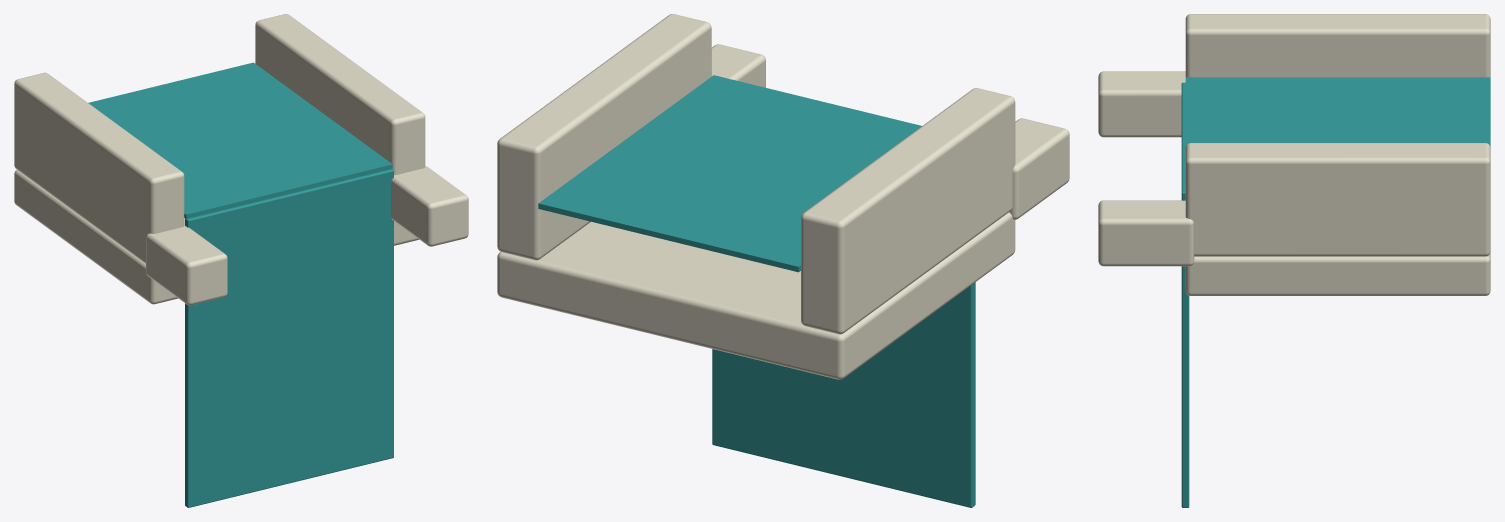
File: water-clock-garden-and-hydraulic-puzzles-channel-spill-f516c210__31954.glb
3 renders of one model, left to right at view 1: azimuth 30°, elevation 25°; view 2: azimuth 150°, elevation 25°; view 3: azimuth 270°, elevation 25°, orthographic. The views are drawn at different scales.
Visible parts, largest first — view 1: channel-spillway-end; view 2: channel-spillway-end; view 3: channel-spillway-end.
Boxes of the visible parts, x1,y1,x2,y2 form: channel-spillway-end: [14, 14, 468, 507]; channel-spillway-end: [497, 14, 1069, 507]; channel-spillway-end: [1098, 14, 1490, 507].
Size of the model in its own units: 0.82 by 0.93 by 0.9.
